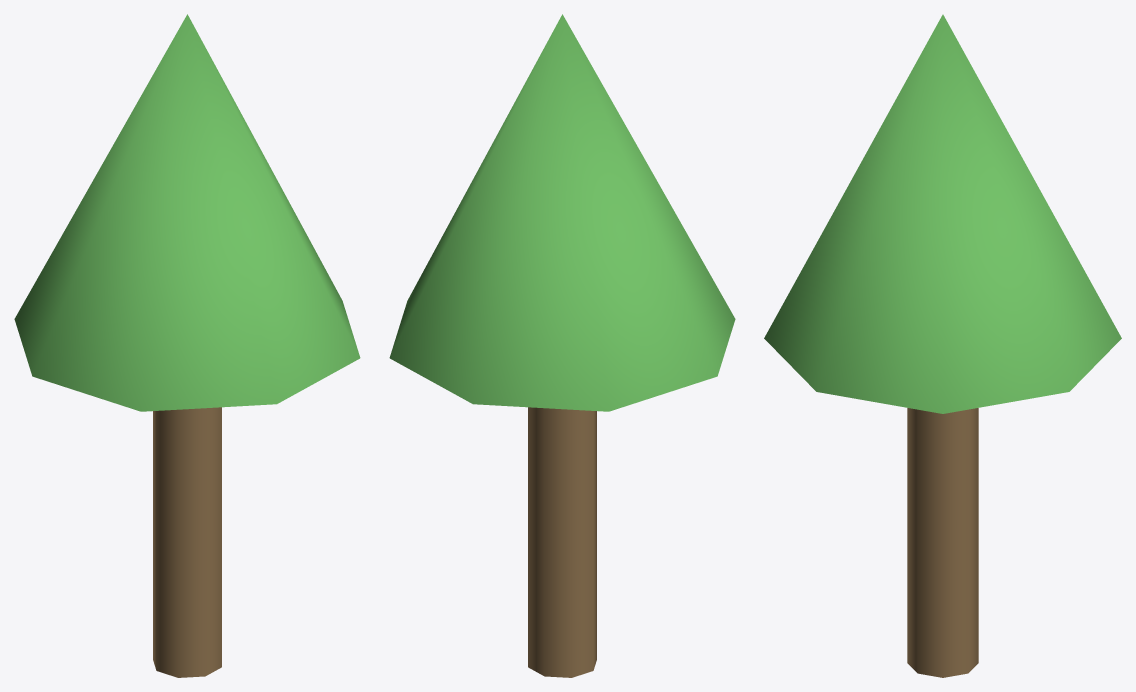
The model's file is forest_tree_cluster.glb.
The picture shows the model from 3 angles, left to right: view 1: azimuth 30°, elevation 25°; view 2: azimuth 150°, elevation 25°; view 3: azimuth 270°, elevation 25°; orthographic projection.
Parts seen in each view (by area): view 1: Tree; view 2: Tree; view 3: Tree.
Boxes of the visible parts, x1,y1,x2,y2 form: Tree: (14, 14, 360, 677); Tree: (389, 14, 735, 677); Tree: (764, 14, 1121, 677).
Size of the model in its own units: 3 by 6 by 3.
